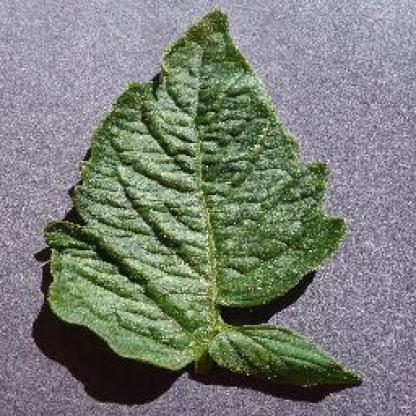good leaf: (81, 37, 310, 344)
